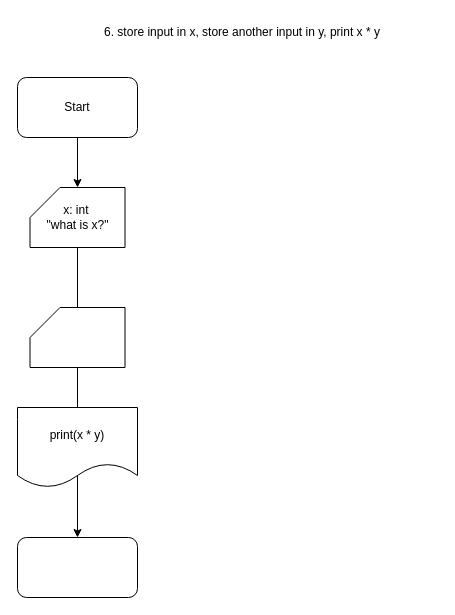
Some shapes in this 455 by 615 pixel diagram are drawn without their labels. The centre of each missing label's shape, as x and y in pixels:
End: [77,567]
y: int "what is y?": [77,337]
